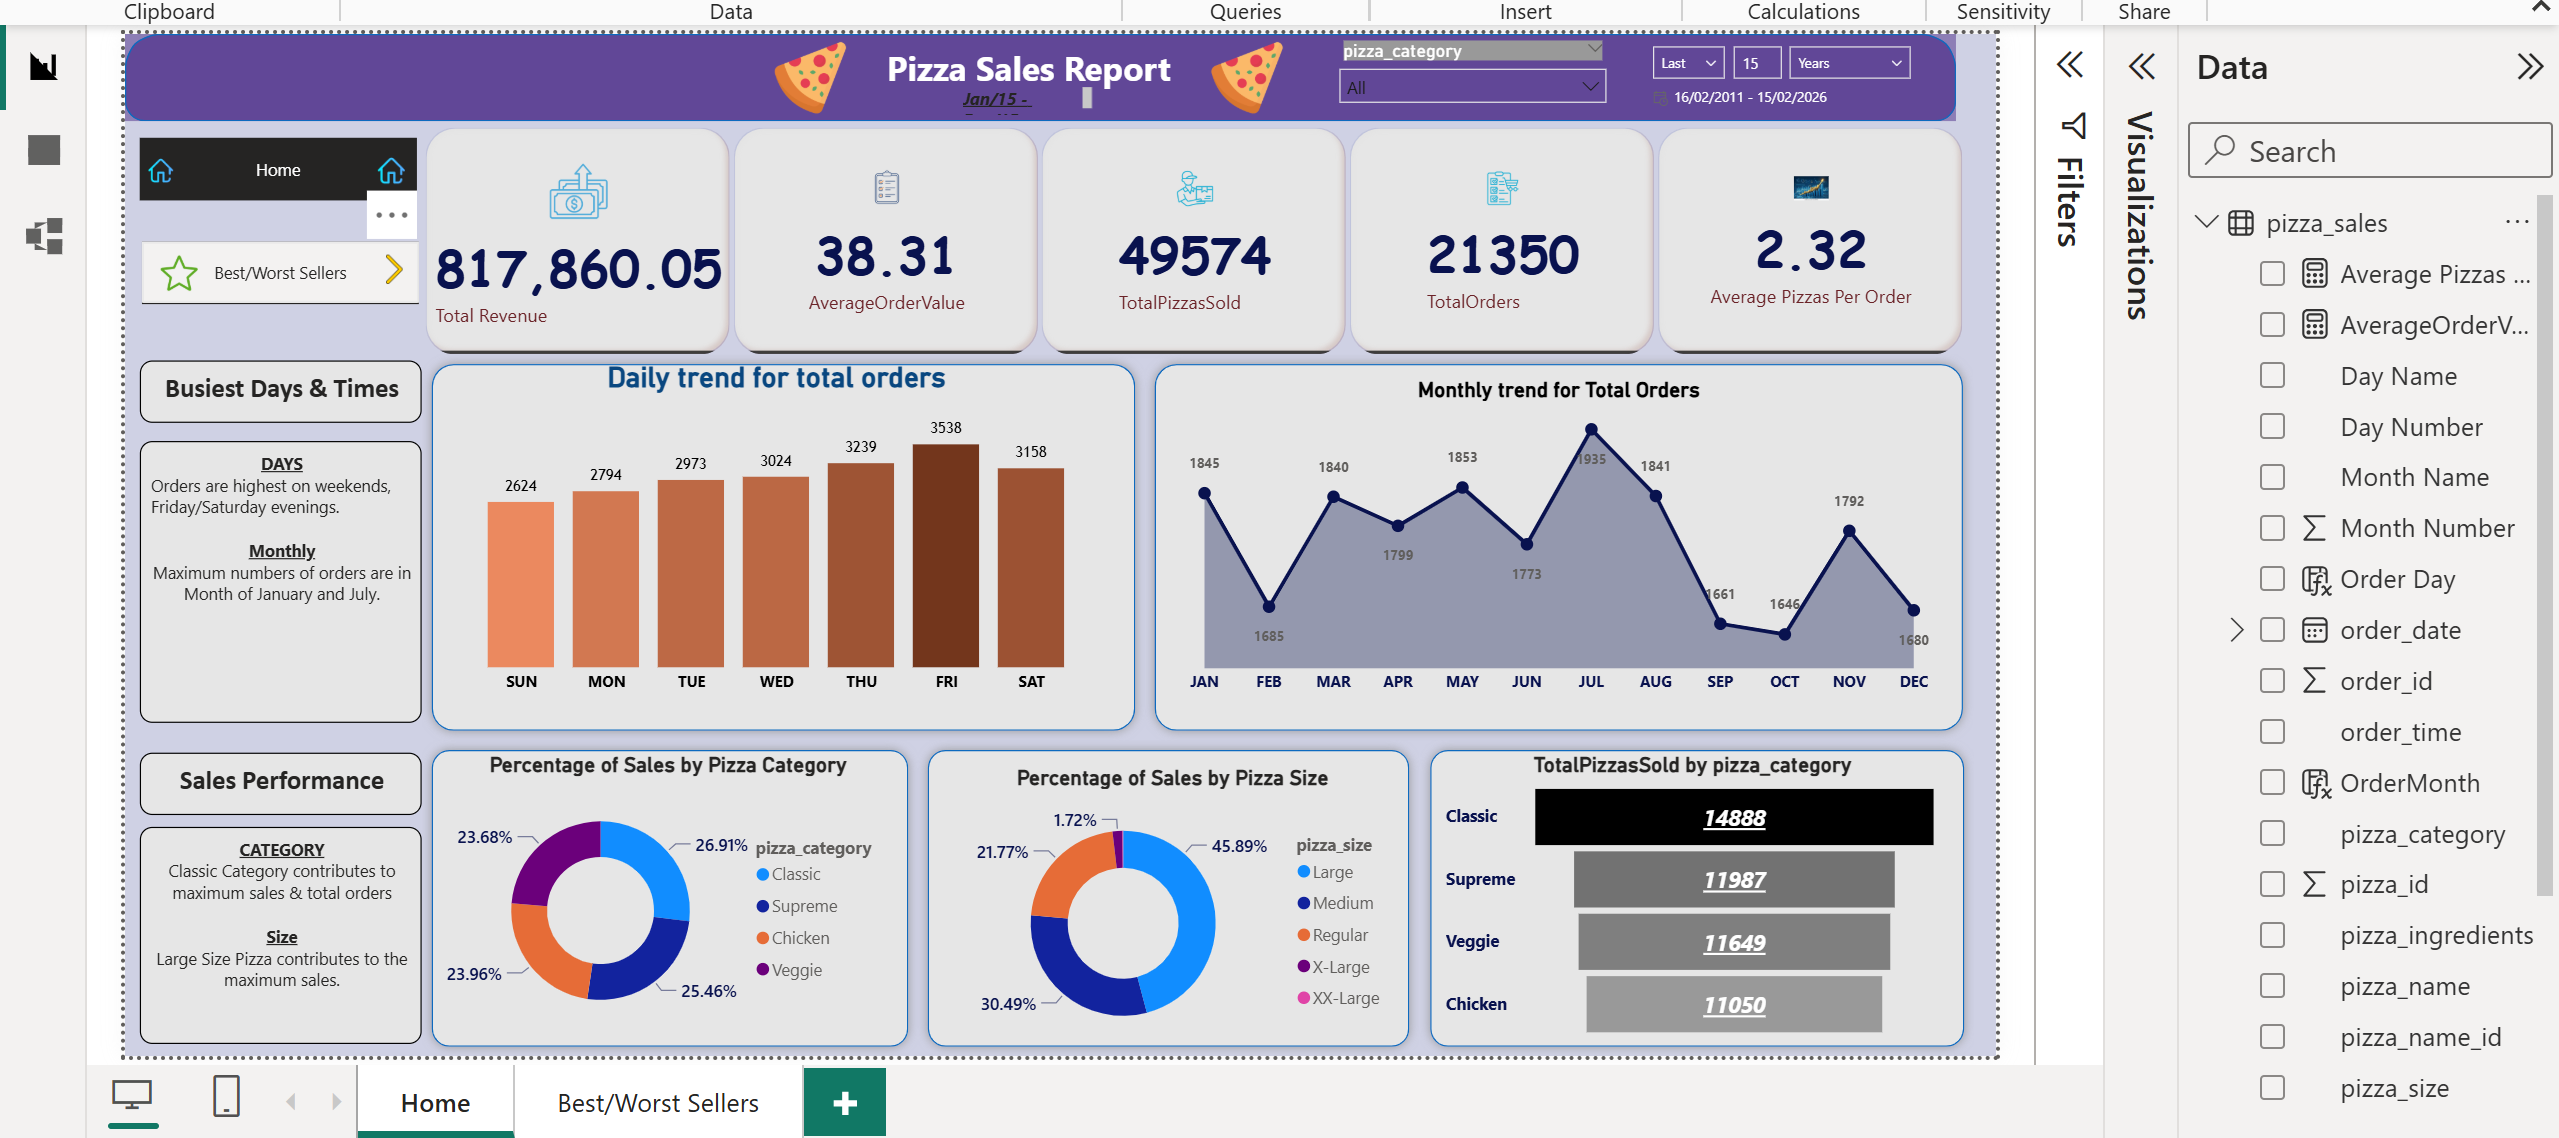

This screenshot's page, from the dashboard's own definition file:
{"tool":"powerbi","page":{"name":"Home","canvas":[1500,820],"ordinal":0},"visuals":[{"type":"cardVisual","fields":{"Data":["pizza_sales.Total Revenue","pizza_sales.AverageOrderValue","pizza_sales.TotalPizzasSold","pizza_sales.TotalOrders","pizza_sales.Average Pizzas Per Order"]},"box":[216,70,1284,192],"z":0},{"type":"shape","box":[0,0,1468,70],"z":1000},{"type":"textbox","box":[12,326,226,226],"z":2000},{"type":"textbox","box":[602,4,246,60],"z":3000},{"type":"textbox","box":[666,38,114,32],"z":4000},{"type":"image","box":[252,0,596,70],"z":5000},{"type":"image","box":[602,0,596,70],"z":6000},{"type":"shape","box":[238,256,580,310],"z":7000},{"type":"columnChart","title":"Daily trend for total orders","fields":{"Category":["pizza_sales.Order Day"],"Y":["pizza_sales.TotalOrders"]},"box":[258,262,528,276],"z":8000},{"type":"shape","box":[818,256,664,310],"z":9000},{"type":"areaChart","title":"Monthly trend for Total Orders","fields":{"Category":["pizza_sales.OrderMonth"],"Y":["pizza_sales.TotalOrders"]},"box":[840,276,620,262],"z":10000},{"type":"shape","box":[238,566,398,254],"z":11000},{"type":"textbox","box":[12,262,226,50],"z":12000},{"type":"shape","box":[1038,566,444,254],"z":13000},{"type":"shape","box":[636,566,402,254],"z":14000},{"type":"donutChart","title":"Percentage of Sales by Pizza Category","fields":{"Category":["pizza_sales.pizza_category"],"Y":["pizza_sales.Total Revenue"]},"box":[252,576,368,234],"z":15000},{"type":"donutChart","title":"Percentage of Sales by Pizza Size","fields":{"Category":["pizza_sales.pizza_size"],"Y":["pizza_sales.Total Revenue"]},"box":[656,586,368,234],"z":16000},{"type":"funnel","fields":{"Category":["pizza_sales.pizza_category"],"Y":["pizza_sales.TotalPizzasSold"]},"box":[1054,576,406,234],"z":17000},{"type":"textbox","box":[12,576,226,50],"z":18000},{"type":"slicer","fields":{"Values":["pizza_sales.pizza_category"]},"box":[964.3,0,234,63.1],"z":19000},{"type":"slicer","fields":{"Values":["pizza_sales.order_date"]},"box":[1212.5,0,234,63.1],"z":20000},{"type":"textbox","box":[12,636,226,174],"z":21000},{"type":"pageNavigator","box":[12,84,222,50],"z":22000},{"type":"pageNavigator","box":[14,166,222,50],"z":23000},{"type":"image","box":[194,94,40,32],"z":24000},{"type":"image","box":[14,94,30,32],"z":25000},{"type":"image","box":[18,172,50,40],"z":26000},{"type":"image","box":[194,172,44,34],"z":27000}]}

Visuals, with their boxes on the page's 1500x820 design canvas (x1, y1, x2, y2). These are canvas units, not pixel positions in the 2559x1138 screenshot, which may show the page scaled, cropped or inside an application window:
cardVisual - pizza_sales.Total Revenue x pizza_sales.AverageOrderValue: {"x1": 216, "y1": 70, "x2": 1500, "y2": 262}
shape: {"x1": 0, "y1": 0, "x2": 1468, "y2": 70}
textbox: {"x1": 12, "y1": 326, "x2": 238, "y2": 552}
textbox: {"x1": 602, "y1": 4, "x2": 848, "y2": 64}
textbox: {"x1": 666, "y1": 38, "x2": 780, "y2": 70}
image: {"x1": 252, "y1": 0, "x2": 848, "y2": 70}
image: {"x1": 602, "y1": 0, "x2": 1198, "y2": 70}
shape: {"x1": 238, "y1": 256, "x2": 818, "y2": 566}
"Daily trend for total orders" columnChart: {"x1": 258, "y1": 262, "x2": 786, "y2": 538}
shape: {"x1": 818, "y1": 256, "x2": 1482, "y2": 566}
"Monthly trend for Total Orders" areaChart: {"x1": 840, "y1": 276, "x2": 1460, "y2": 538}
shape: {"x1": 238, "y1": 566, "x2": 636, "y2": 820}
textbox: {"x1": 12, "y1": 262, "x2": 238, "y2": 312}
shape: {"x1": 1038, "y1": 566, "x2": 1482, "y2": 820}
shape: {"x1": 636, "y1": 566, "x2": 1038, "y2": 820}
"Percentage of Sales by Pizza Category" donutChart: {"x1": 252, "y1": 576, "x2": 620, "y2": 810}
"Percentage of Sales by Pizza Size" donutChart: {"x1": 656, "y1": 586, "x2": 1024, "y2": 820}
funnel - pizza_sales.pizza_category x pizza_sales.TotalPizzasSold: {"x1": 1054, "y1": 576, "x2": 1460, "y2": 810}
textbox: {"x1": 12, "y1": 576, "x2": 238, "y2": 626}
slicer - pizza_sales.pizza_category: {"x1": 964, "y1": 0, "x2": 1198, "y2": 63}
slicer - pizza_sales.order_date: {"x1": 1212, "y1": 0, "x2": 1446, "y2": 63}
textbox: {"x1": 12, "y1": 636, "x2": 238, "y2": 810}
pageNavigator: {"x1": 12, "y1": 84, "x2": 234, "y2": 134}
pageNavigator: {"x1": 14, "y1": 166, "x2": 236, "y2": 216}
image: {"x1": 194, "y1": 94, "x2": 234, "y2": 126}
image: {"x1": 14, "y1": 94, "x2": 44, "y2": 126}
image: {"x1": 18, "y1": 172, "x2": 68, "y2": 212}
image: {"x1": 194, "y1": 172, "x2": 238, "y2": 206}
